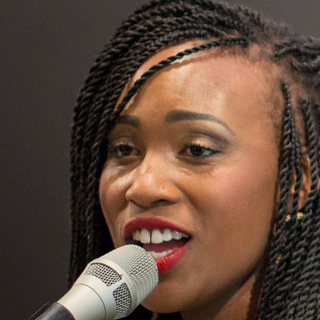eye: (178, 138, 225, 165), (107, 139, 144, 165)
